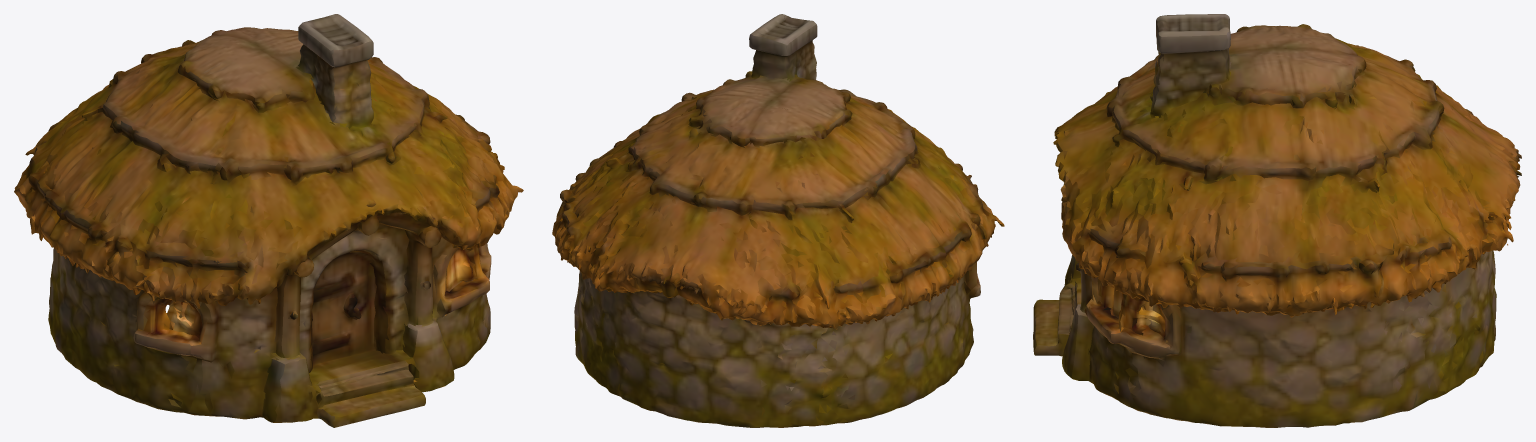
Rendered from round-cottage.web.glb.
3 views of the same model, side by side, from view 1: azimuth 30°, elevation 25°; view 2: azimuth 150°, elevation 25°; view 3: azimuth 270°, elevation 25° (orthographic). The views are drawn at different scales.
Visible parts, largest first — view 1: painted; view 2: painted; view 3: painted.
Part boxes in pixels (x1,y1,x2,y2): painted: (14, 14, 523, 427); painted: (552, 14, 1004, 427); painted: (1033, 14, 1521, 427).
Bounding box in the file's own units: 1.99 × 1.47 × 1.98.
Materials: 1 (1 with a texture image).
